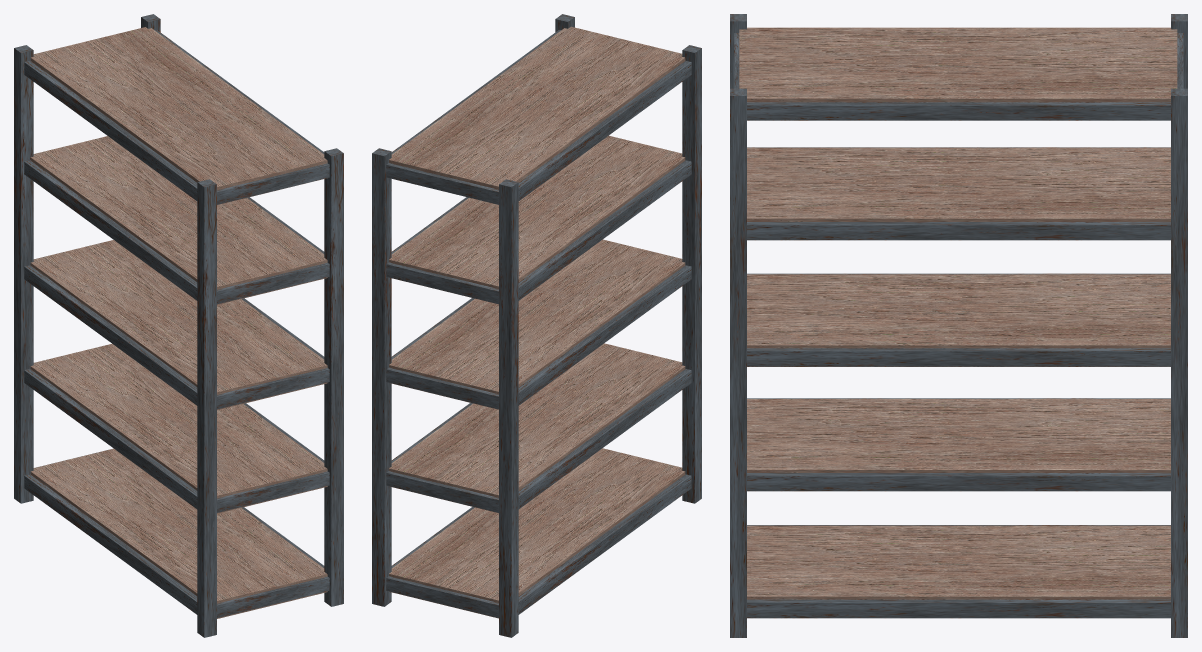
3 views of the same model, side by side, from view 1: azimuth 30°, elevation 25°; view 2: azimuth 150°, elevation 25°; view 3: azimuth 270°, elevation 25° (orthographic). The views are drawn at different scales.
Parts seen in each view (by area): view 1: 기둥.008; view 2: 기둥.008; view 3: 기둥.008.
Boxes of the visible parts, left/top/right/bottom form: 기둥.008: left=14, top=14, right=343, bottom=637; 기둥.008: left=372, top=14, right=701, bottom=637; 기둥.008: left=730, top=14, right=1187, bottom=637.
Size of the model in its own units: 113 by 348 by 266.
Materials: 2 (2 with a texture image).
